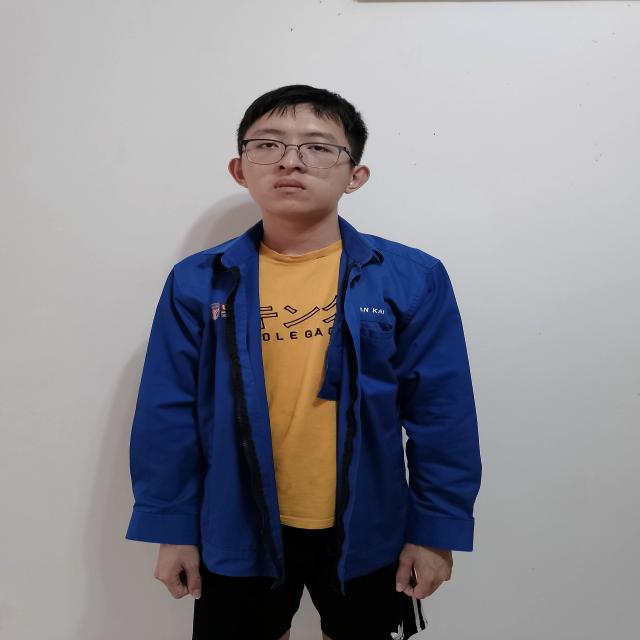person_with_labcoat: (127, 86, 481, 640)
